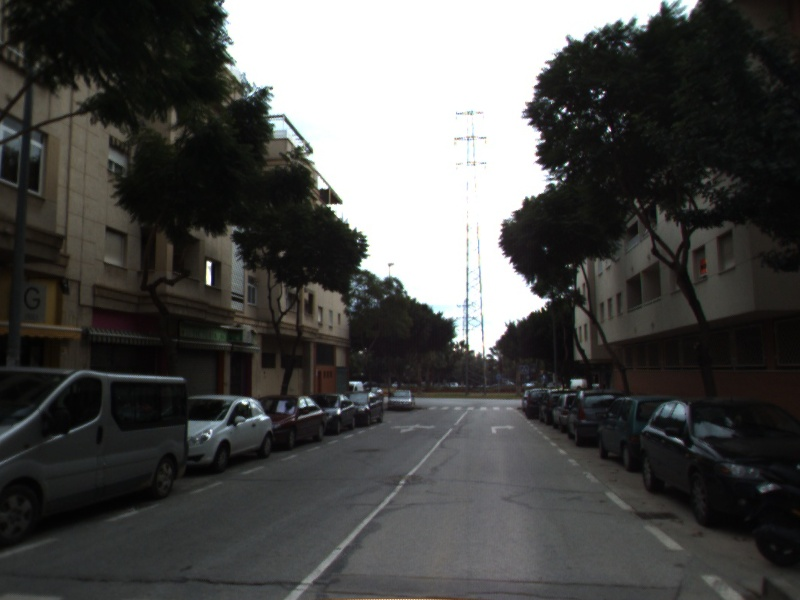RIGHT: (489, 422, 518, 436)
